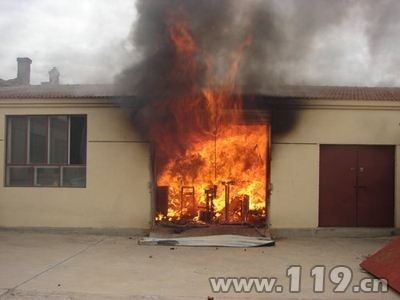fire: (155, 21, 271, 221)
